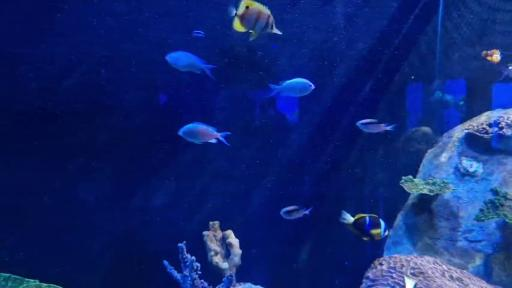Fish: (250, 78, 315, 123), (230, 0, 281, 40), (340, 211, 388, 240), (166, 51, 215, 78), (178, 122, 230, 145), (269, 78, 315, 97), (356, 119, 395, 132), (280, 206, 312, 219), (482, 50, 501, 63), (499, 64, 511, 81), (404, 276, 416, 287), (192, 31, 205, 37)
